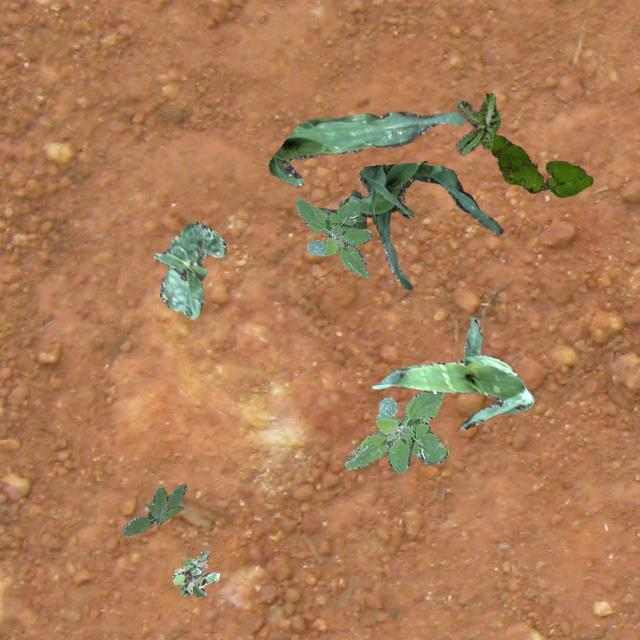crop: (342, 160, 502, 288), (372, 316, 532, 428), (268, 110, 467, 186), (152, 220, 225, 318)
weed: (343, 390, 448, 472), (491, 133, 592, 197), (294, 196, 372, 278), (121, 484, 186, 534), (454, 92, 499, 154), (172, 550, 218, 596), (318, 190, 368, 228)
